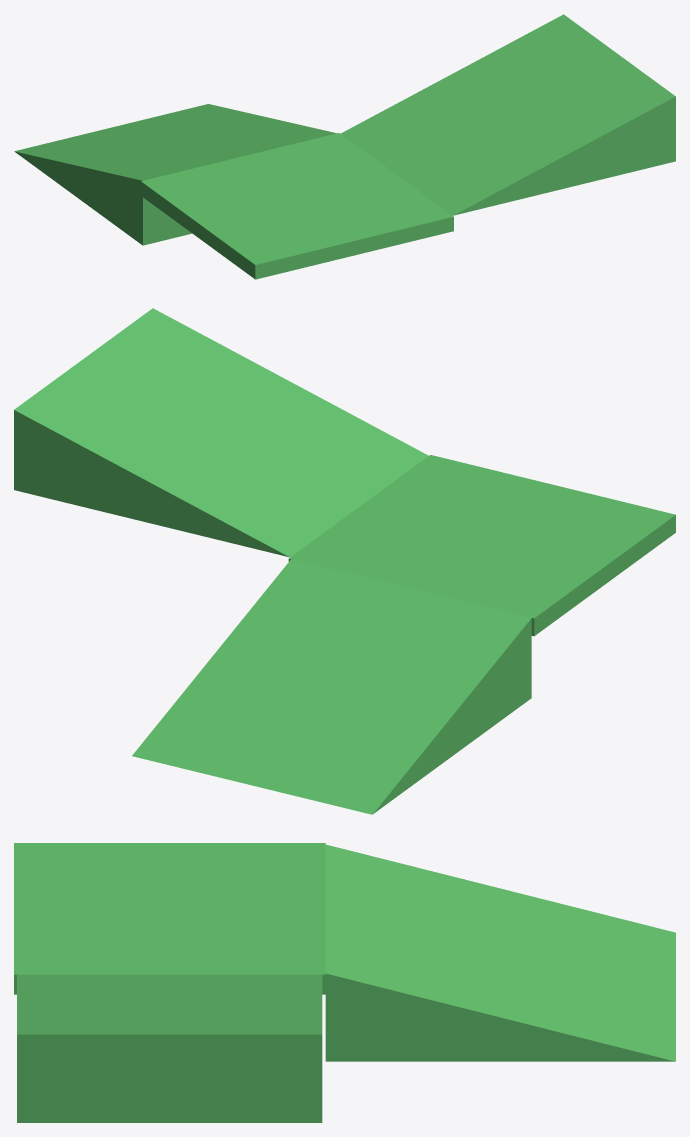
The model's file is stairs_corner_90_4m_collision.glb.
3 views of the same model, one above another, from view 1: azimuth 30°, elevation 25°; view 2: azimuth 150°, elevation 25°; view 3: azimuth 270°, elevation 25° (orthographic). The views are drawn at different scales.
Parts seen in each view (by area): view 1: stairs_corner_90_4m_flight_b-col, stairs_corner_90_4m_landing-col, stairs_corner_90_4m_flight_a-col; view 2: stairs_corner_90_4m_flight_a-col, stairs_corner_90_4m_flight_b-col, stairs_corner_90_4m_landing-col; view 3: stairs_corner_90_4m_flight_a-col, stairs_corner_90_4m_flight_b-col, stairs_corner_90_4m_landing-col.
Boxes of the visible parts, x1,y1,x2,y2 form: stairs_corner_90_4m_flight_b-col: (341, 14, 675, 215); stairs_corner_90_4m_landing-col: (141, 133, 453, 279); stairs_corner_90_4m_flight_a-col: (14, 104, 336, 245); stairs_corner_90_4m_flight_a-col: (132, 559, 531, 814); stairs_corner_90_4m_flight_b-col: (14, 308, 428, 557); stairs_corner_90_4m_landing-col: (288, 455, 675, 636); stairs_corner_90_4m_flight_a-col: (325, 844, 675, 1061); stairs_corner_90_4m_flight_b-col: (17, 974, 322, 1122); stairs_corner_90_4m_landing-col: (14, 843, 325, 994).
Size of the model in its own units: 8.5 by 2.5 by 8.5.
